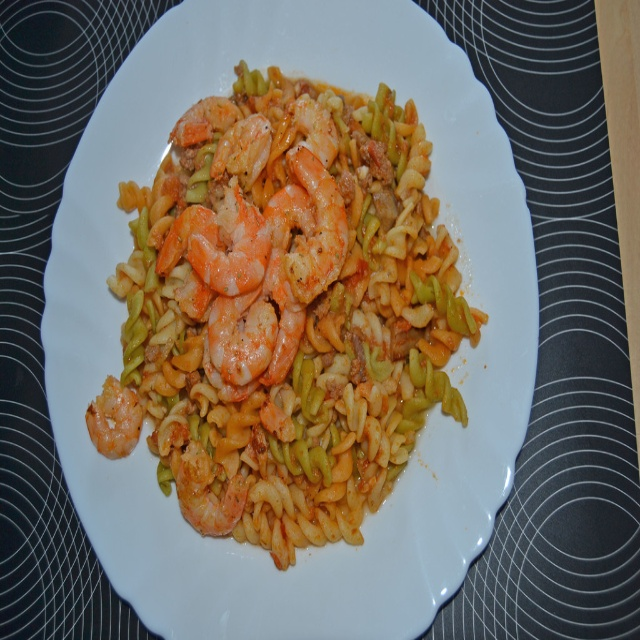Shrimp: (86, 66, 349, 536)
